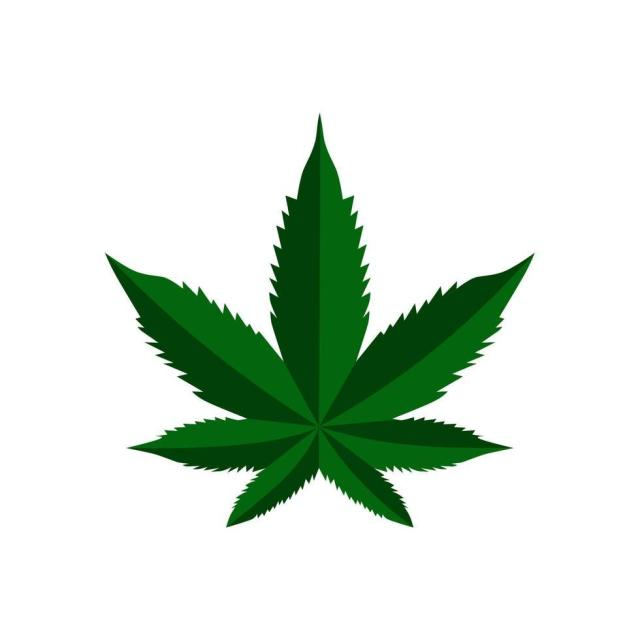cannabis: (105, 115, 534, 528)
